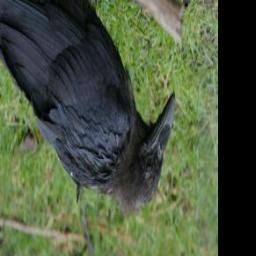Crow: (0, 0, 177, 216)
